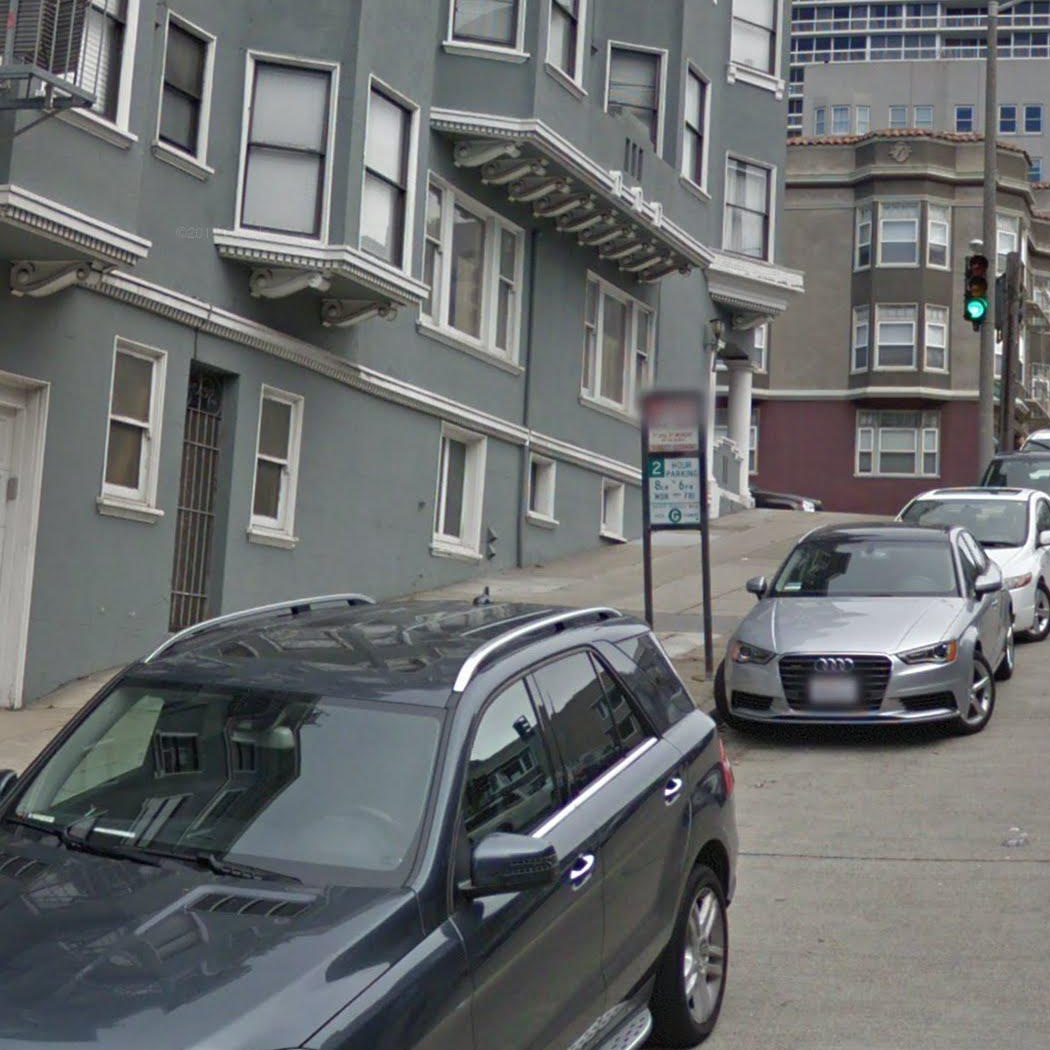2 Hour Parking: (643, 454, 709, 531)
